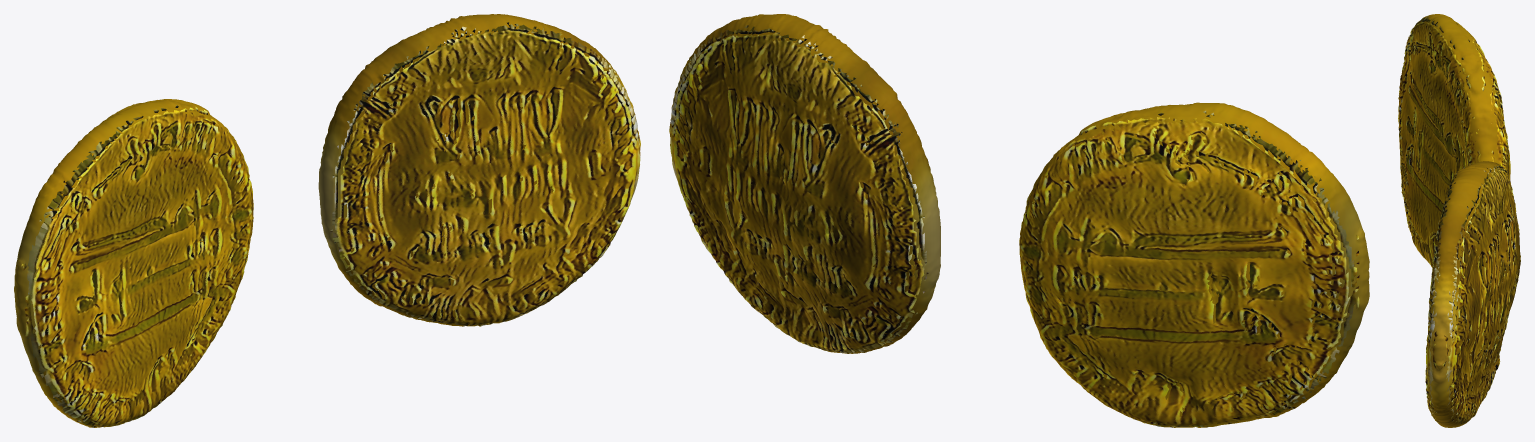
File: kfl-2149.glb
3 renders of one model, left to right at view 1: azimuth 30°, elevation 25°; view 2: azimuth 150°, elevation 25°; view 3: azimuth 270°, elevation 25°, orthographic. The views are drawn at different scales.
Parts seen in each view (by area): view 1: kfl-2149; view 2: kfl-2149; view 3: kfl-2149.
Boxes of the visible parts, x1=… form: kfl-2149: x1=14, y1=14, x2=640, y2=427; kfl-2149: x1=669, y1=14, x2=1369, y2=427; kfl-2149: x1=1398, y1=14, x2=1520, y2=427.
Size of the model in its own units: 0.9902 by 0.4536 by 0.2017.
Materials: 4 (4 with a texture image).
